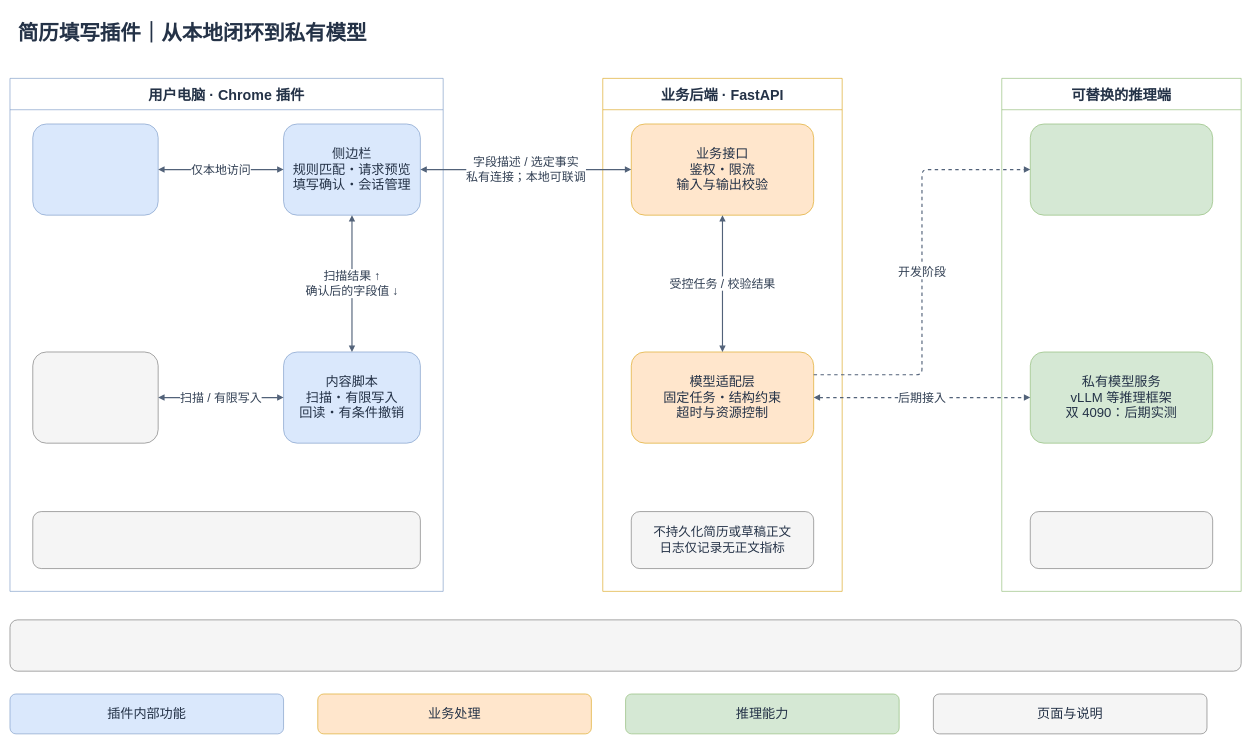
This 1251x744 diagram has some shape labels left out. Each missing label, with the centre of its shape:
"后台 Service Worker：打开面板、短事件 模型请求由侧边栏管理" goes at (226,540).
"招聘网页表单 当前授权页面 用户自行提交" goes at (95,397).
"本地简历 用户确认的事实 本机保存与备份" goes at (95,169).
"模拟推理端 先做本地联调 验证协议与异常" goes at (1121,169).
"模拟结果不代表模型效果 真实模型通过评测后试用" goes at (1121,540).
"真实资料优先留在本地 · 仅发送必要内容 · 预览后填写 · 不自动提交" goes at (625,645).
